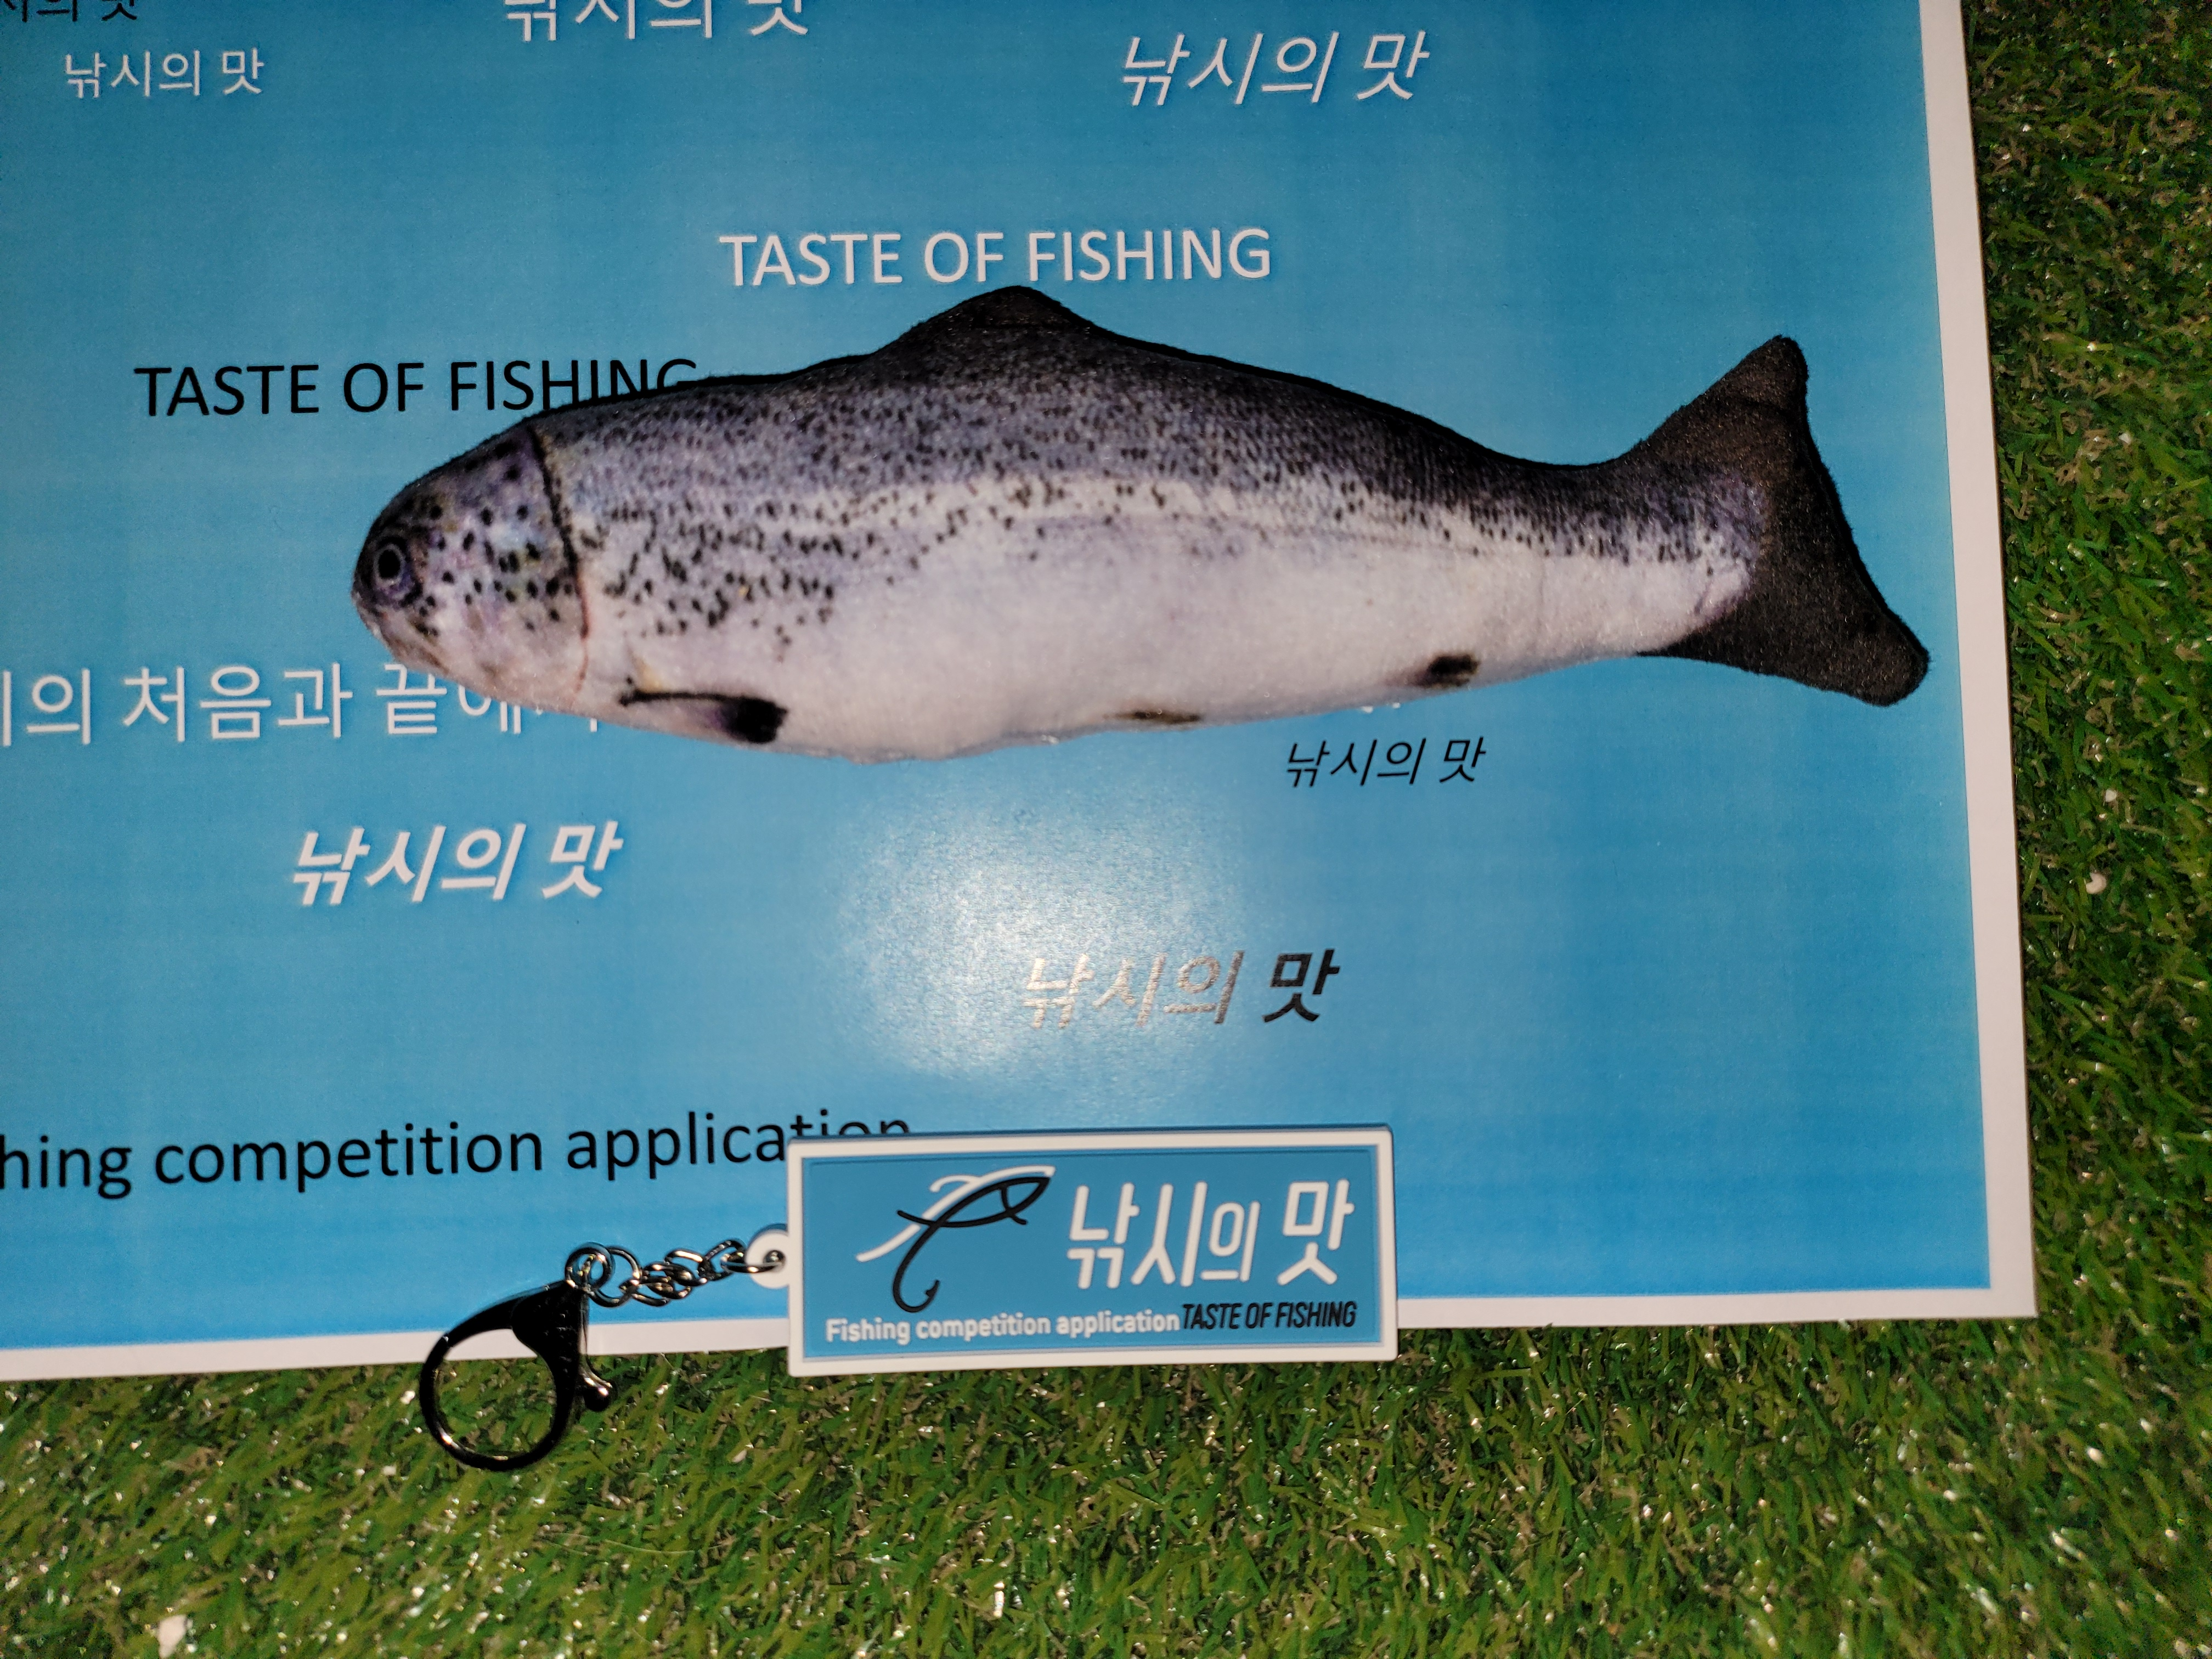fish: (355, 284, 1933, 765)
tag: (791, 1126, 1400, 1371)
